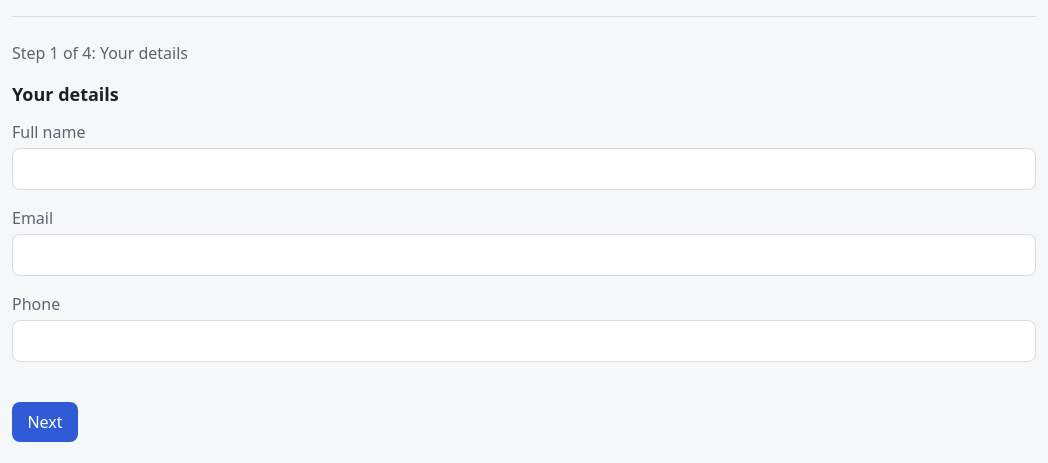
Test: RegisterWizard › shows every earlier answer unchanged when going back
The image size is (1048, 463).
Type "Ada Lovelace" into the field labelled "Full name" at (524, 169), box 12,148 -> 1036,190
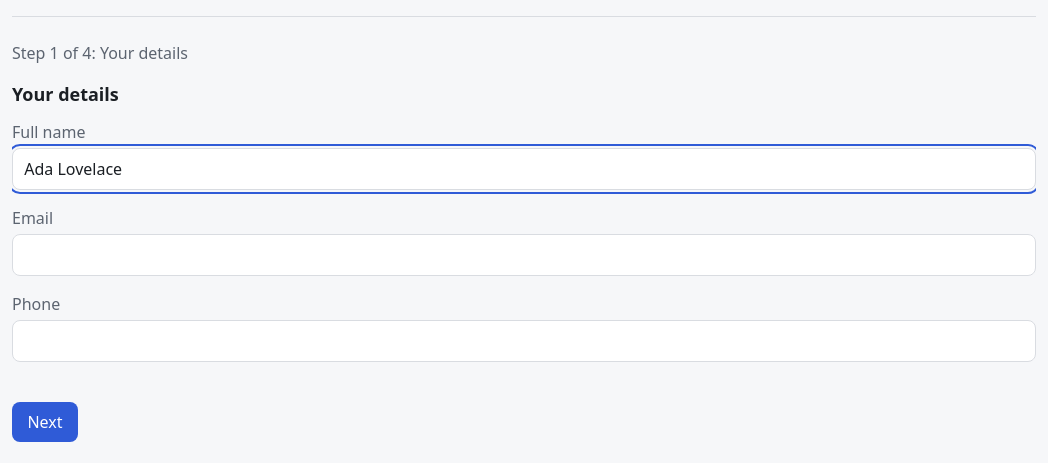
Type "ada@example.com" into the field labelled "Email" at (524, 255), box 12,234 -> 1036,276
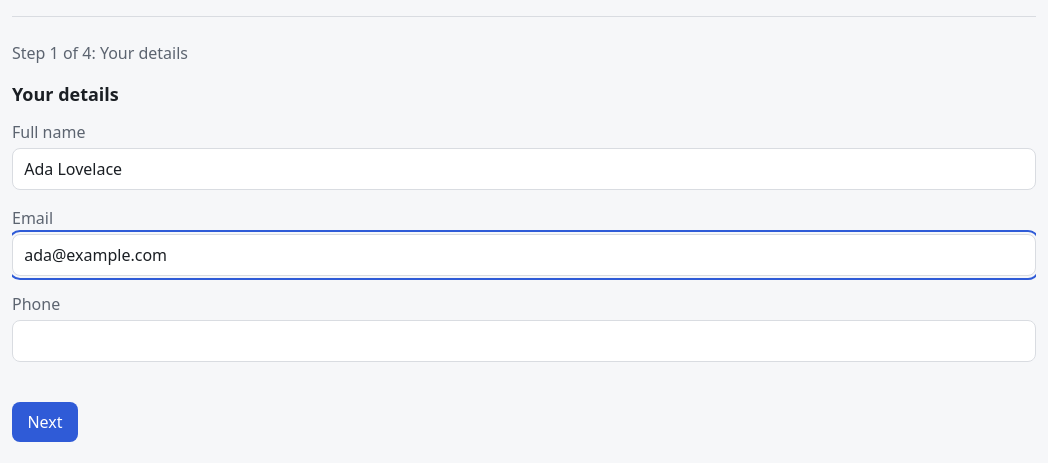
Type "+44 7700 900123" into the field labelled "Phone" at (524, 341), box 12,320 -> 1036,362
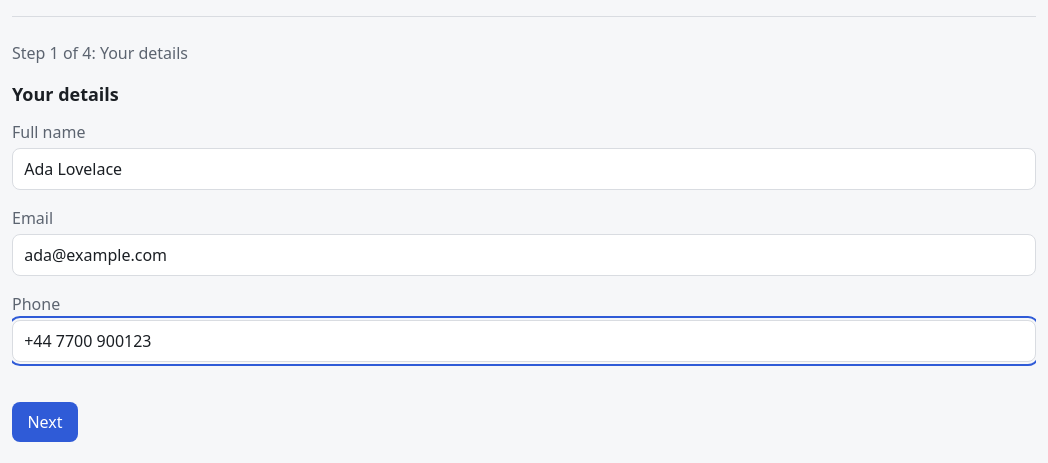
Click the button "Next" at (45, 422), box 12,402 -> 78,442
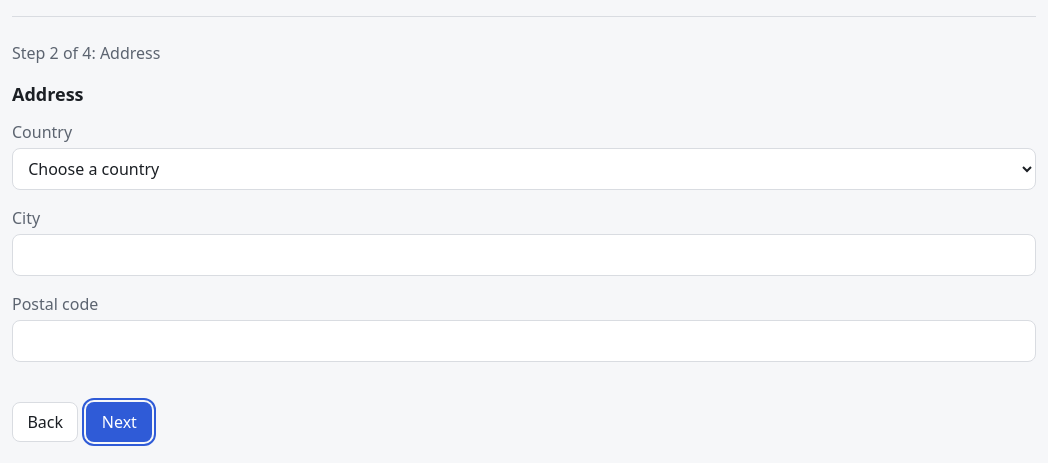
Click the button "Back" at (45, 422), box 12,402 -> 78,442
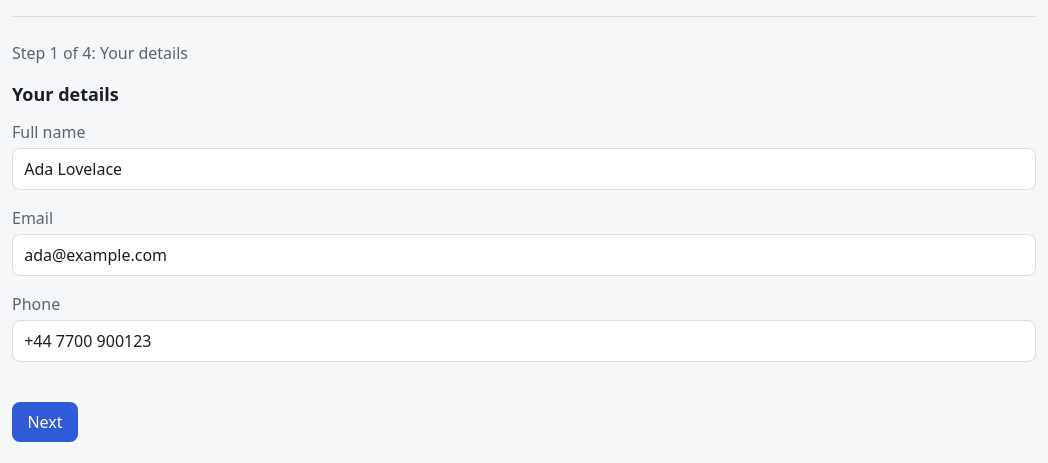
Expected: the field labelled "Full name" holds "Ada Lovelace", 12,148 -> 1036,190
Expected: the field labelled "Email" holds "ada@example.com", 12,234 -> 1036,276
Expected: the field labelled "Phone" holds "+44 7700 900123", 12,320 -> 1036,362
